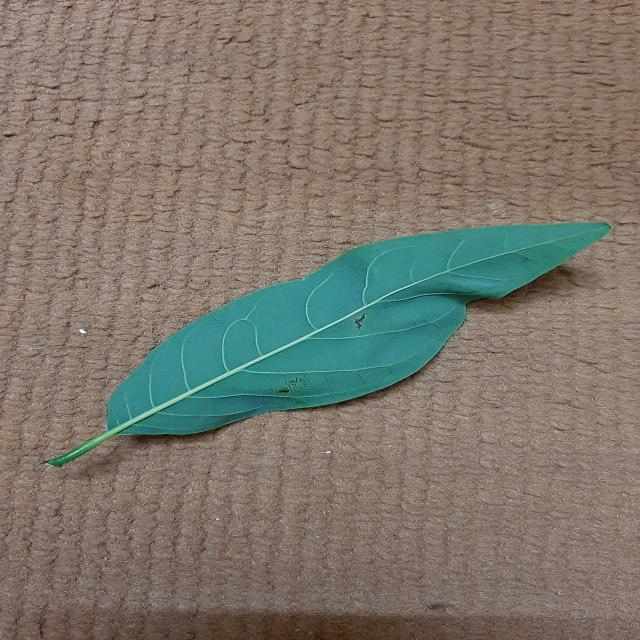seethaphala: (46, 222, 610, 466)
